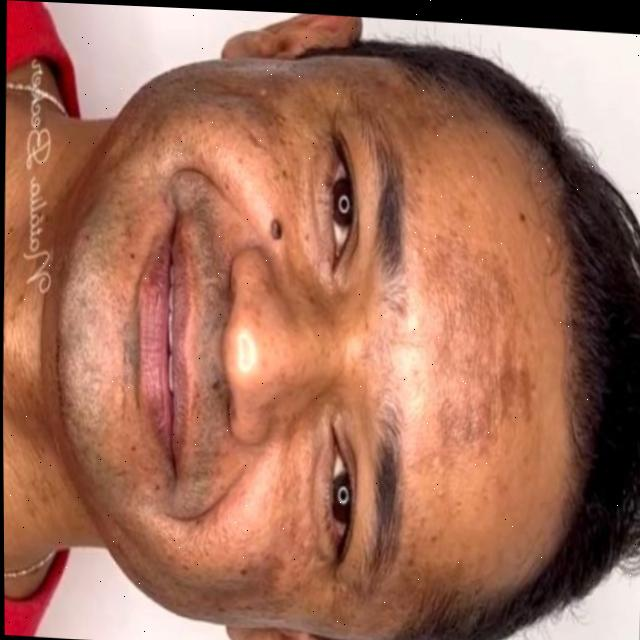Melasma: (390, 275, 542, 451), (161, 74, 292, 205), (154, 511, 297, 612)
